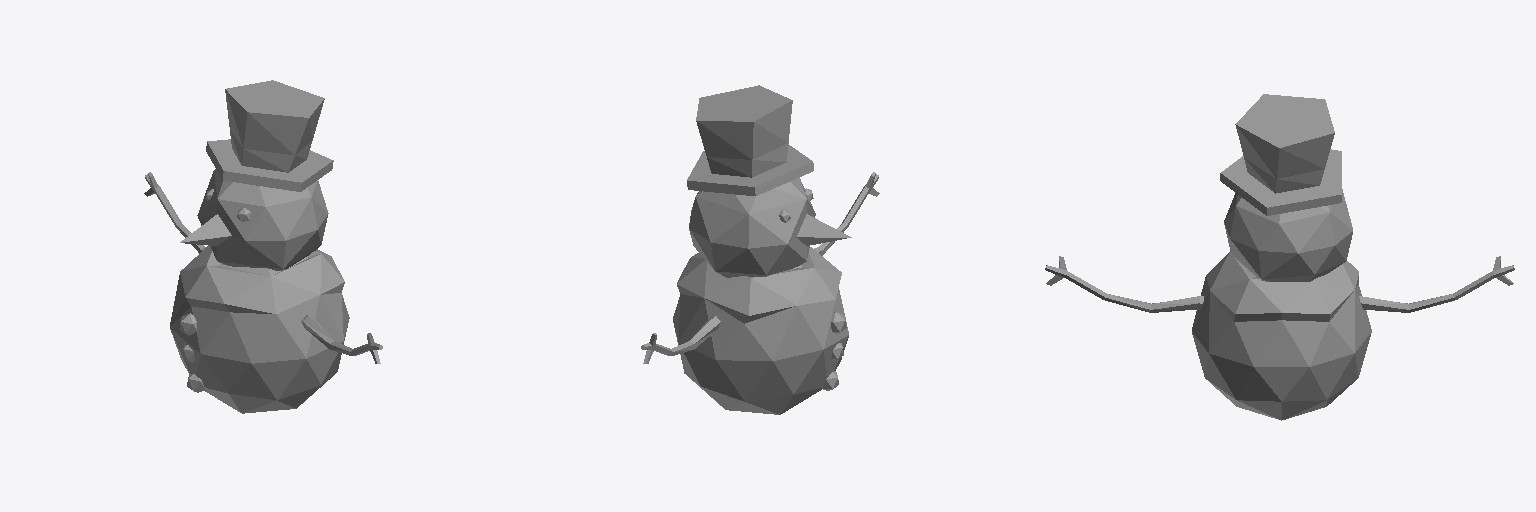
File: Snowman.obj
3 views of the same model, side by side, from view 1: azimuth 30°, elevation 25°; view 2: azimuth 150°, elevation 25°; view 3: azimuth 270°, elevation 25° (orthographic).
Visible parts, largest first — view 1: Icosphere; view 2: Icosphere; view 3: Icosphere.
Part boxes in pixels (bbox=[...]): Icosphere: bbox=[144, 80, 382, 413]; Icosphere: bbox=[641, 85, 879, 414]; Icosphere: bbox=[1045, 94, 1514, 420].
Size of the model in its own units: 1.48 by 2.71 by 3.75.